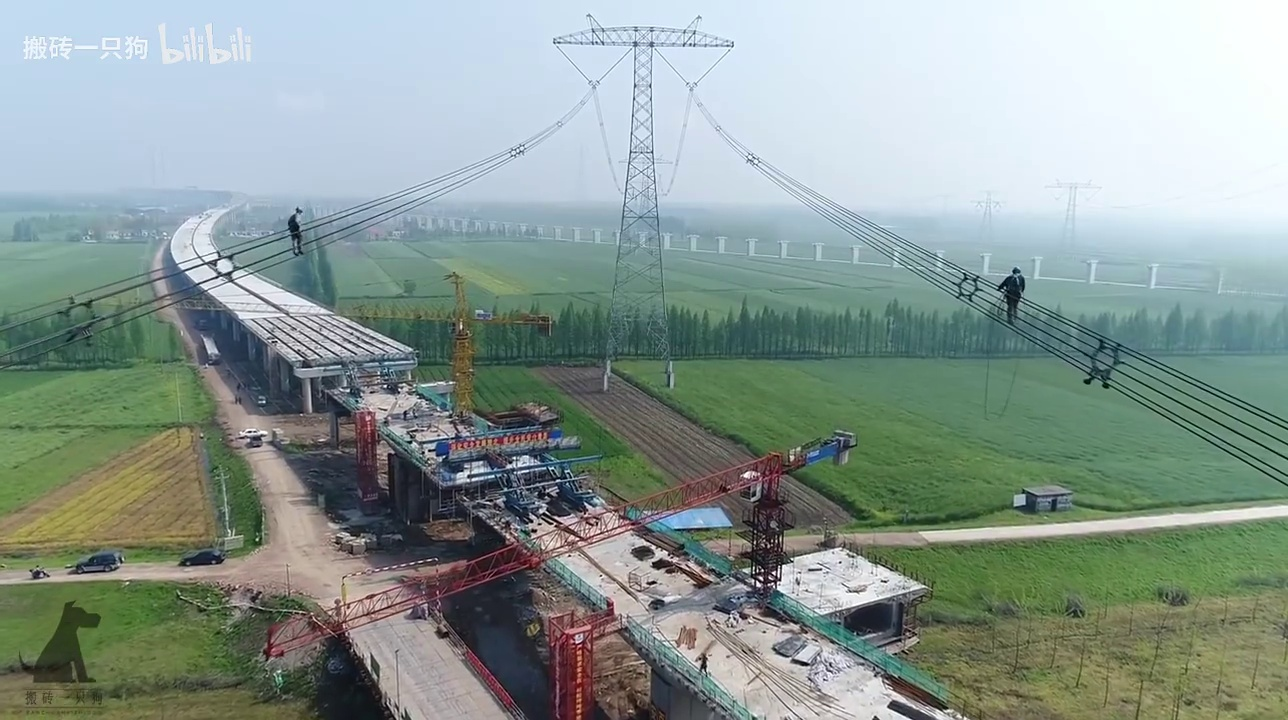tower_body: (533, 3, 759, 400)
tower_foot: (597, 313, 682, 396)
tower_head: (543, 12, 750, 60)
